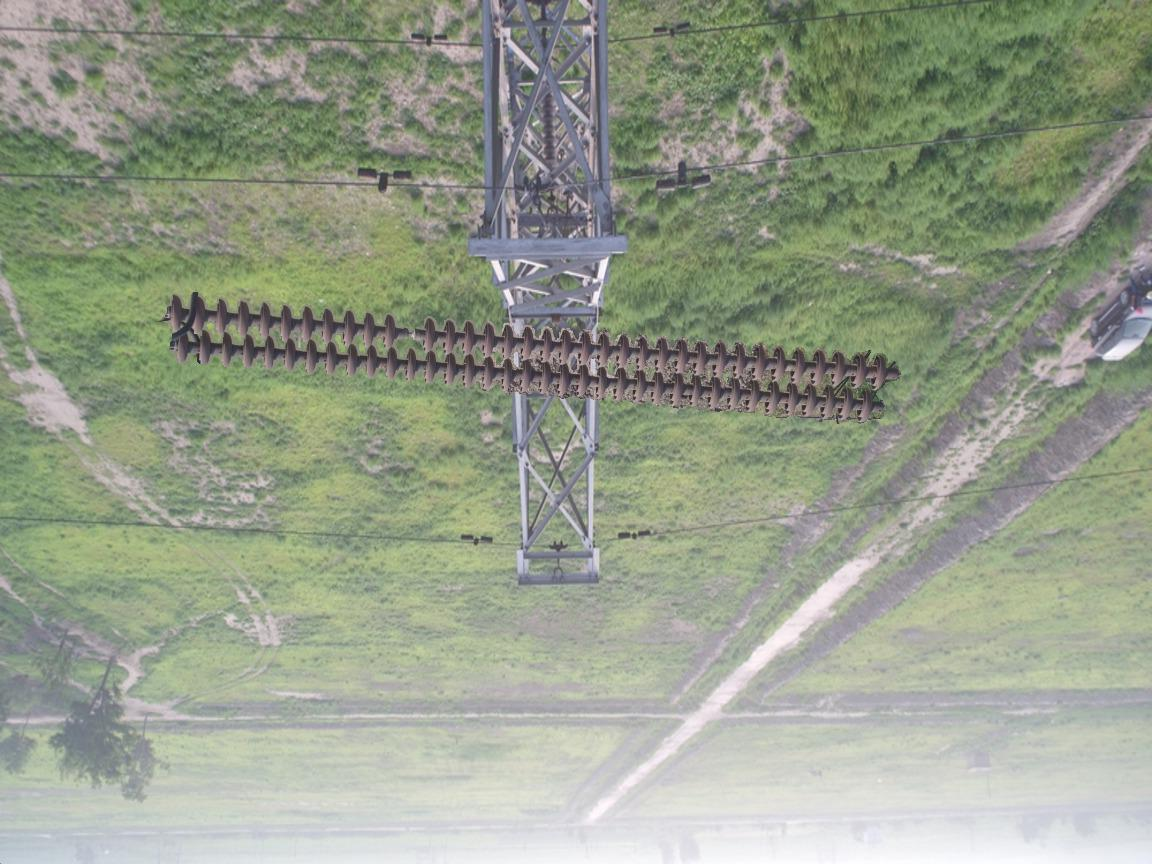insulator: (159, 289, 906, 429), (539, 88, 560, 167)
insulator_stringdrop: (378, 311, 439, 354)
